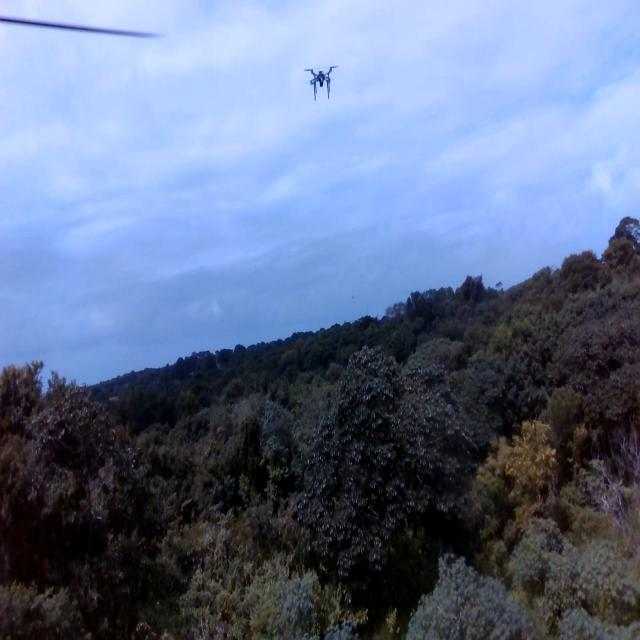-uav-: (299, 57, 345, 112)
